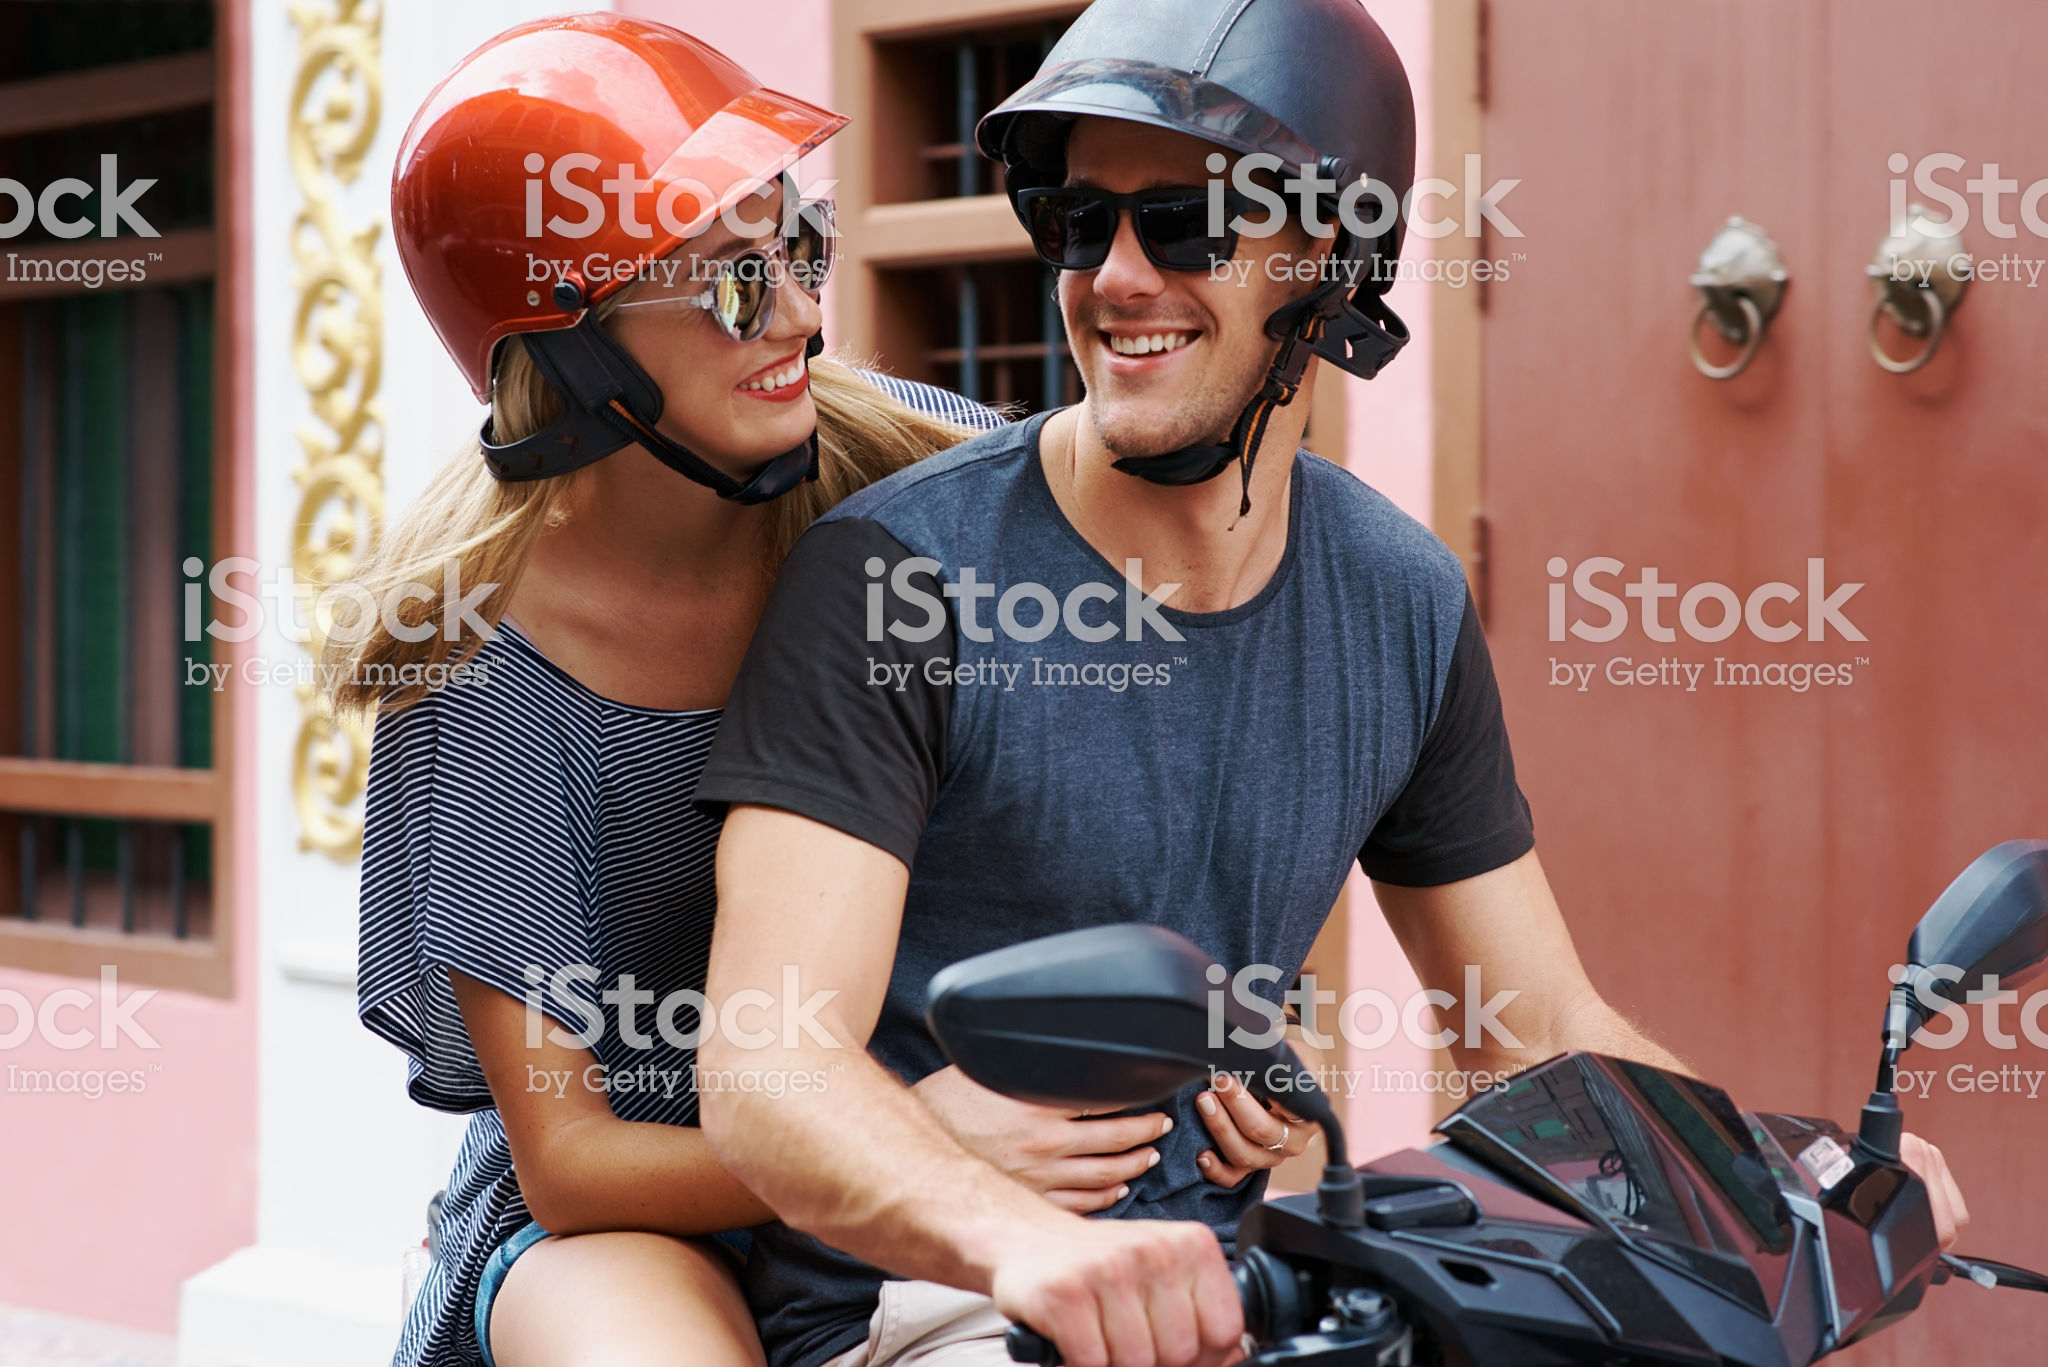helmet: (352, 32, 852, 304), (1002, 8, 1436, 275)
